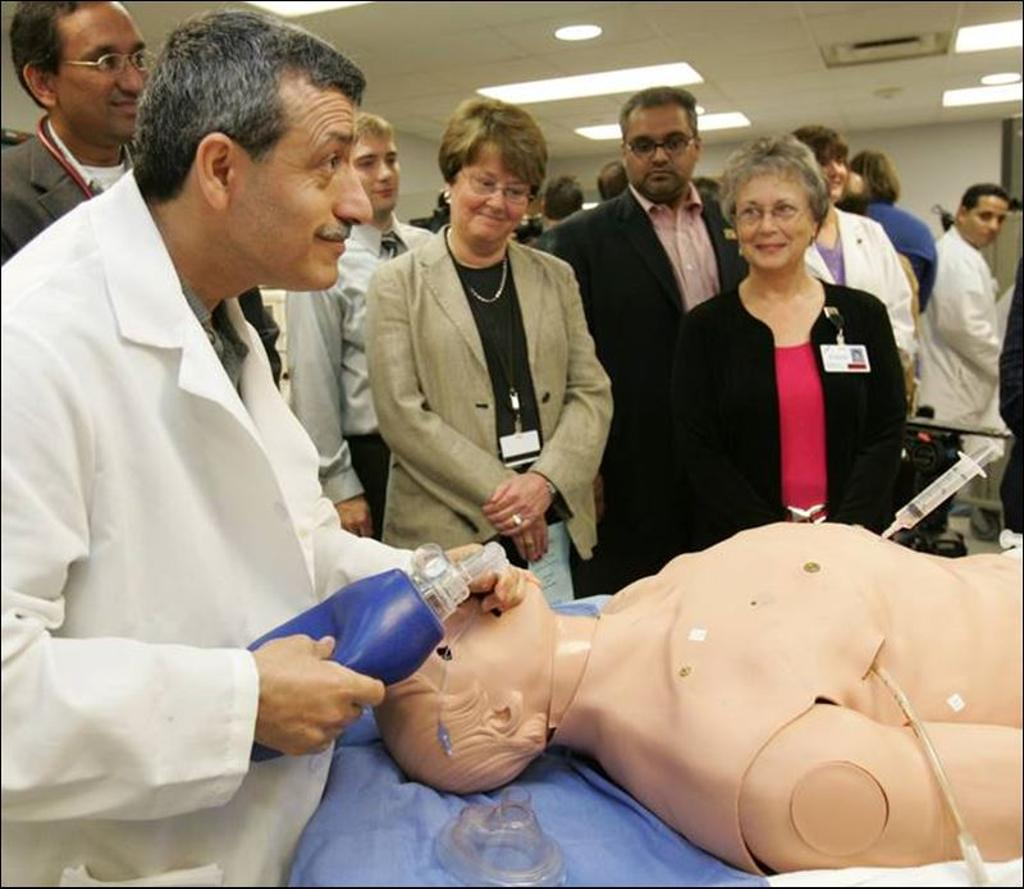face: (232, 81, 372, 289), (55, 1, 149, 136), (736, 171, 812, 270), (451, 145, 528, 240), (623, 104, 695, 197), (347, 135, 399, 209), (962, 195, 1008, 246), (807, 146, 846, 200)
